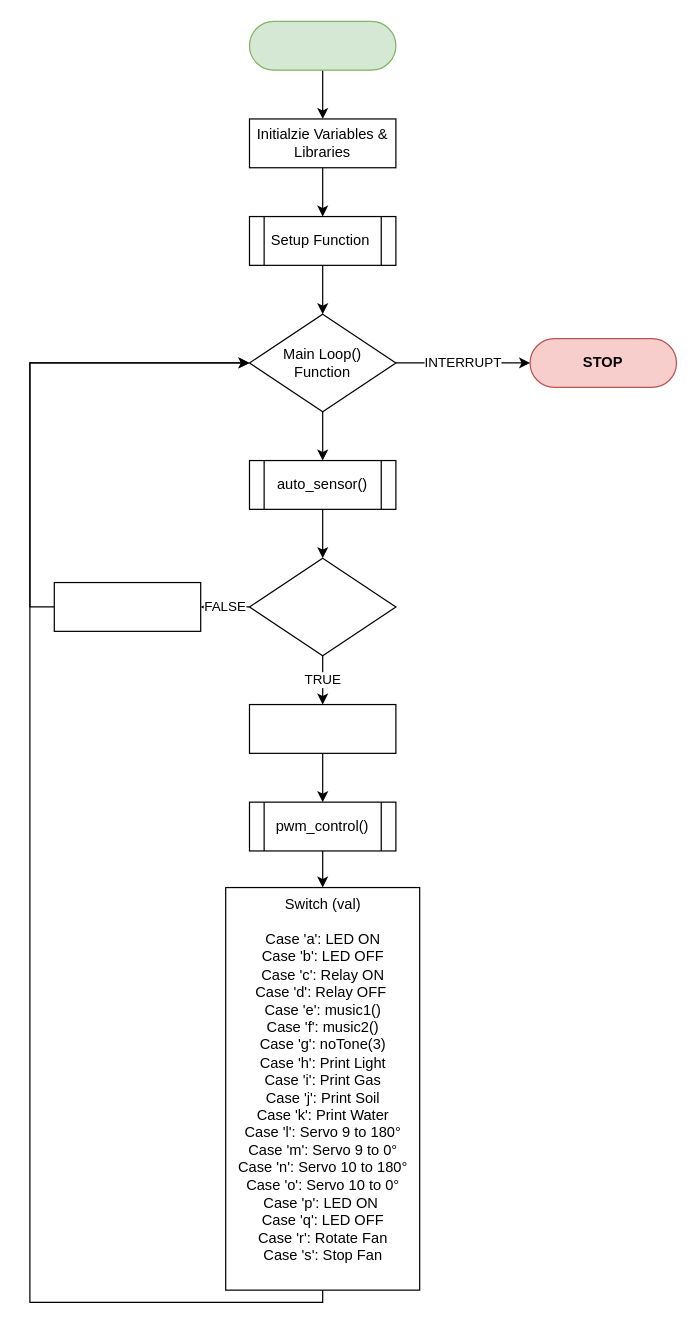
Image size: 698x1333. Some labels were removed from this diagram. The box of each missing label's shape, as (x1, y1, x2, y2) in pixels:
Read Sensors & Update Values: (53, 581, 201, 631)
Read Serial Val =Serial.read: (248, 703, 396, 753)
Serial.available() >0: (248, 557, 396, 656)
START: (248, 20, 396, 70)
